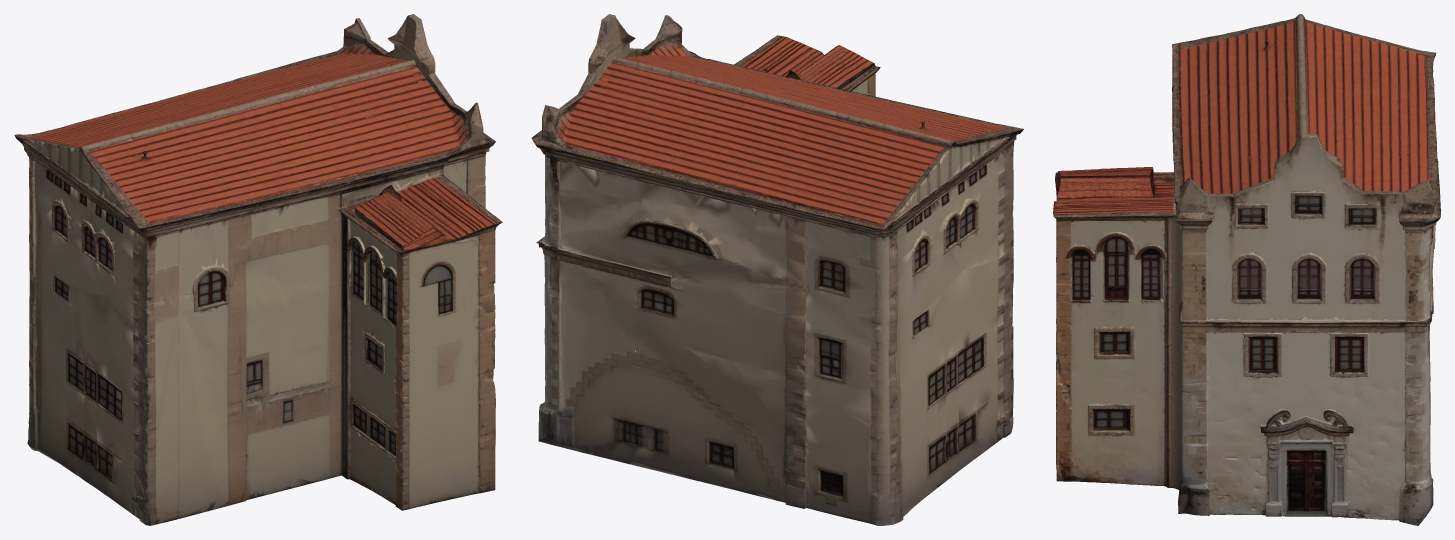
Rendered from Sanbenedetto1.glb.
The picture shows the model from 3 angles, left to right: view 1: azimuth 30°, elevation 25°; view 2: azimuth 150°, elevation 25°; view 3: azimuth 270°, elevation 25°; orthographic projection.
Parts seen in each view (by area): view 1: tripo_node_0f3f4113-39c1-4b06-b48e-e4d12042d20e; view 2: tripo_node_0f3f4113-39c1-4b06-b48e-e4d12042d20e; view 3: tripo_node_0f3f4113-39c1-4b06-b48e-e4d12042d20e.
Boxes of the visible parts, x1,y1,x2,y2 form: tripo_node_0f3f4113-39c1-4b06-b48e-e4d12042d20e: (14,14,502,525); tripo_node_0f3f4113-39c1-4b06-b48e-e4d12042d20e: (531,14,1023,525); tripo_node_0f3f4113-39c1-4b06-b48e-e4d12042d20e: (1053,14,1440,525).
Size of the model in its own units: 0.988 by 0.9995 by 0.9155.
Materials: 1 (1 with a texture image).
